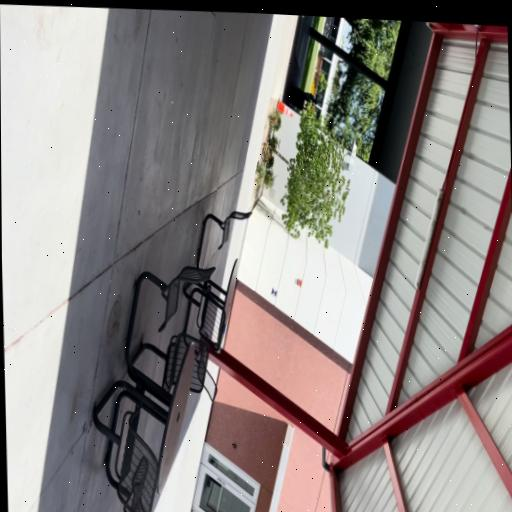target9: (271, 287, 277, 298)
